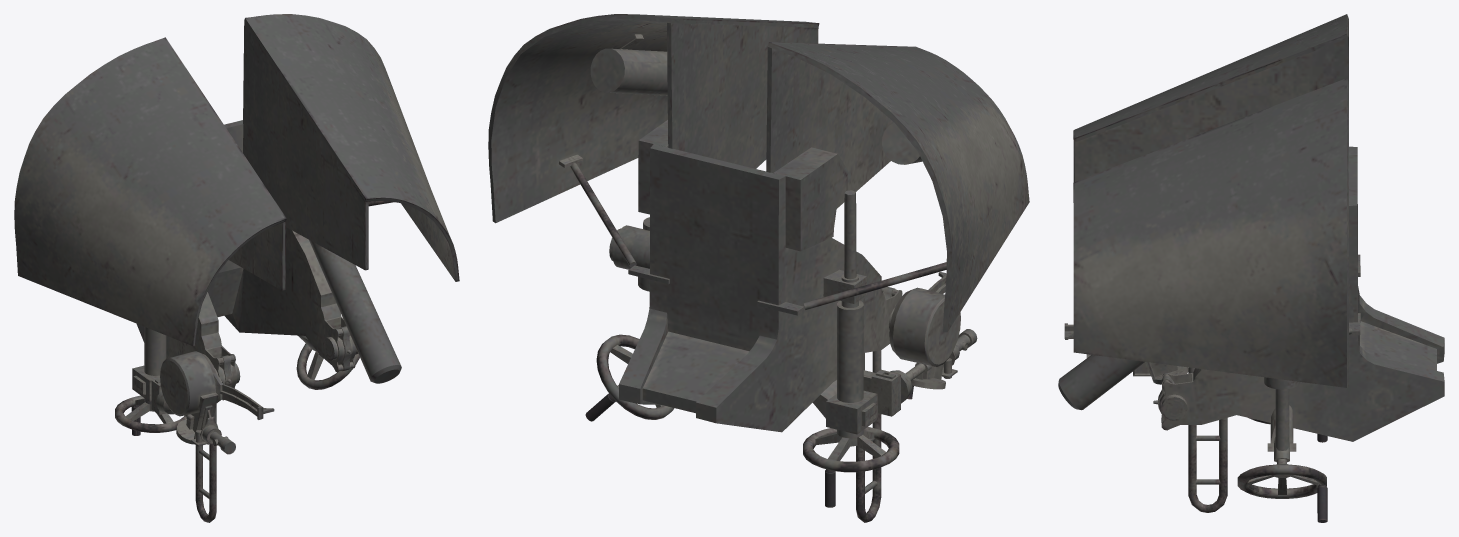
File: Turret_01.glb
3 renders of one model, left to right at view 1: azimuth 30°, elevation 25°; view 2: azimuth 150°, elevation 25°; view 3: azimuth 270°, elevation 25°, orthographic. The views are drawn at different scales.
Parts seen in each view (by area): view 1: set_0_group_0; view 2: set_0_group_0; view 3: set_0_group_0.
Boxes of the visible parts, x1=… form: set_0_group_0: x1=14, y1=14, x2=459, y2=522; set_0_group_0: x1=488, y1=14, x2=1029, y2=522; set_0_group_0: x1=1058, y1=14, x2=1444, y2=522.
Bounding box in the file's own units: 1.48 × 1.61 × 1.15.
1 material, 1 textured.
